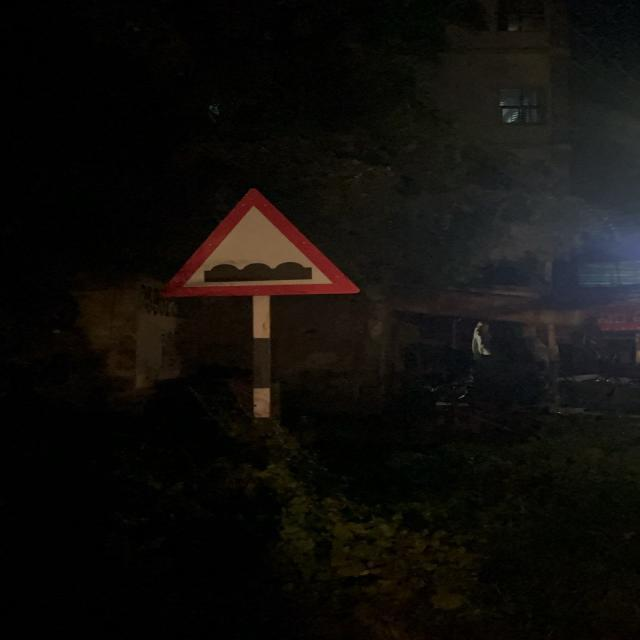hump or rough road: (161, 186, 365, 296)
